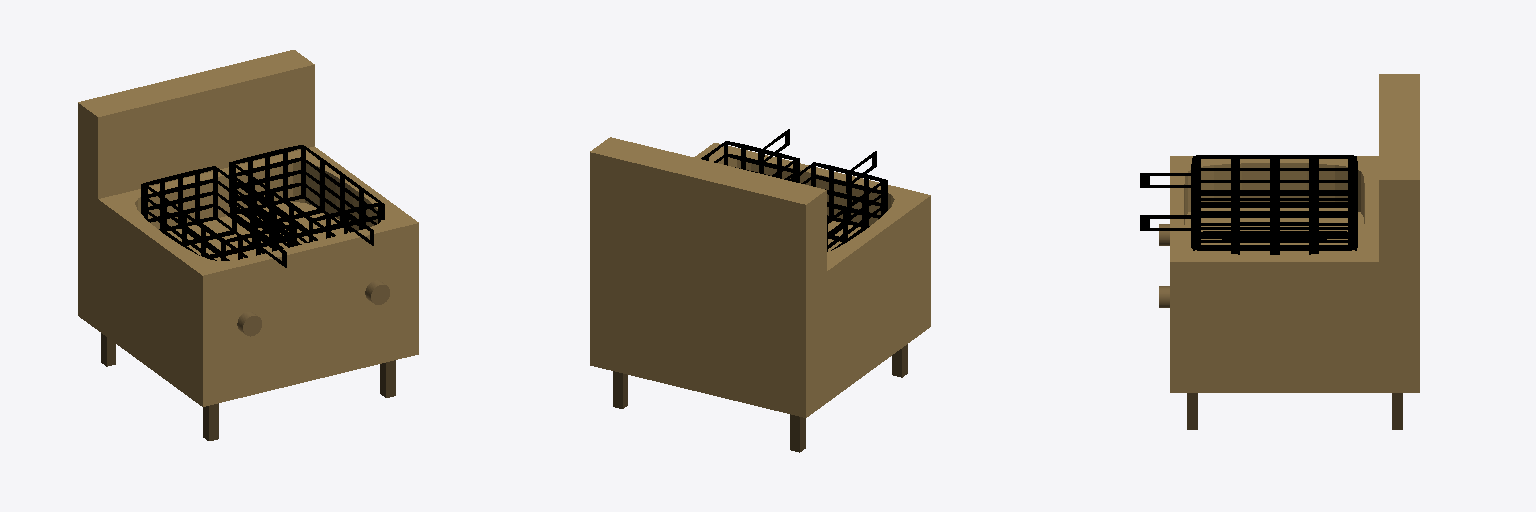
3 views of the same model, side by side, from view 1: azimuth 30°, elevation 25°; view 2: azimuth 150°, elevation 25°; view 3: azimuth 270°, elevation 25° (orthographic).
Visible parts, largest first — view 1: Freidora; view 2: Freidora; view 3: Freidora.
Boxes of the visible parts, x1=… form: Freidora: x1=78, y1=50, x2=418, y2=440; Freidora: x1=590, y1=129, x2=930, y2=452; Freidora: x1=1140, y1=74, x2=1419, y2=429.
Size of the model in its own units: 0.44 by 0.5 by 0.493.
1 materials, 1 textured.